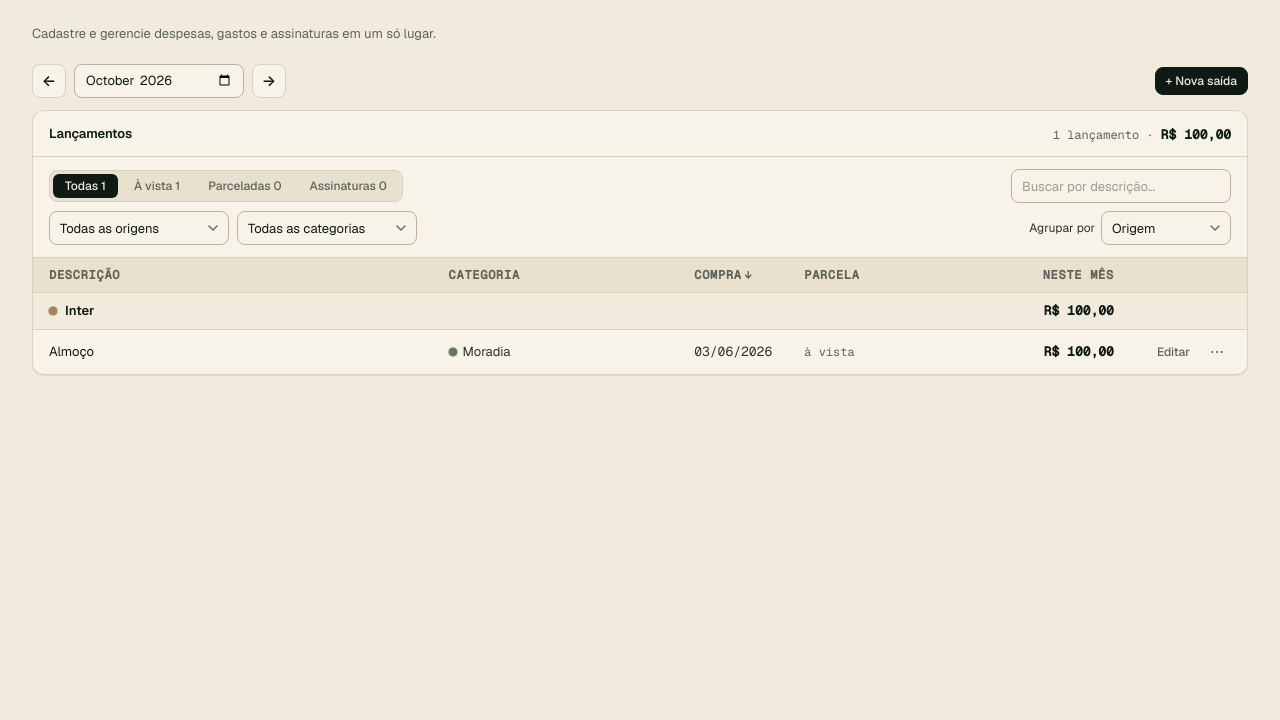
Test case: SaidasPage — editar compra à vista em fatura fechada › abre com valor e data travados, e diz por quê
This screenshot has width=1280, height=720.
Click the button "Editar": (1173, 352) [1146,338,1201,366]
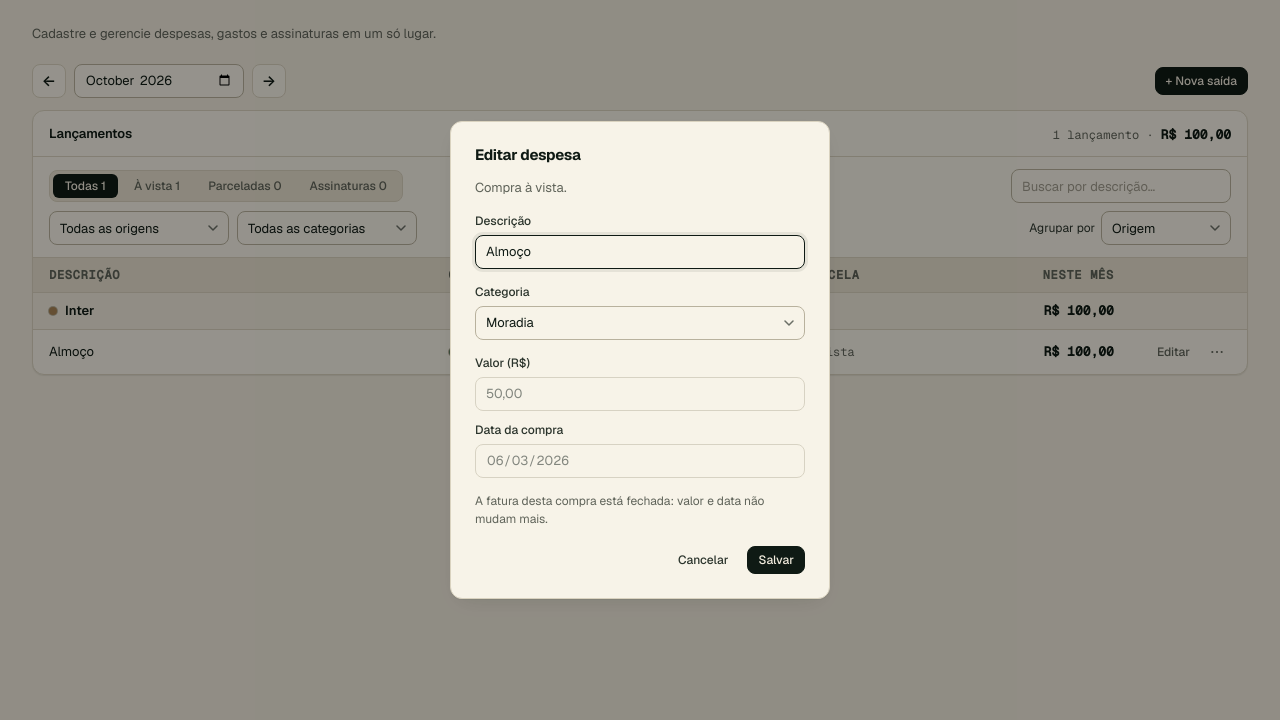
Now the field labelled "Valor (R$)" is disabled, box [475,377,805,411]
Now the date field labelled "Data da compra" is disabled, box [475,444,805,478]
Now the dialog "Editar despesa" shows "fatura desta compra está fechada", box [475,493,764,527]
